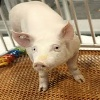heo: (8, 1, 85, 89)
